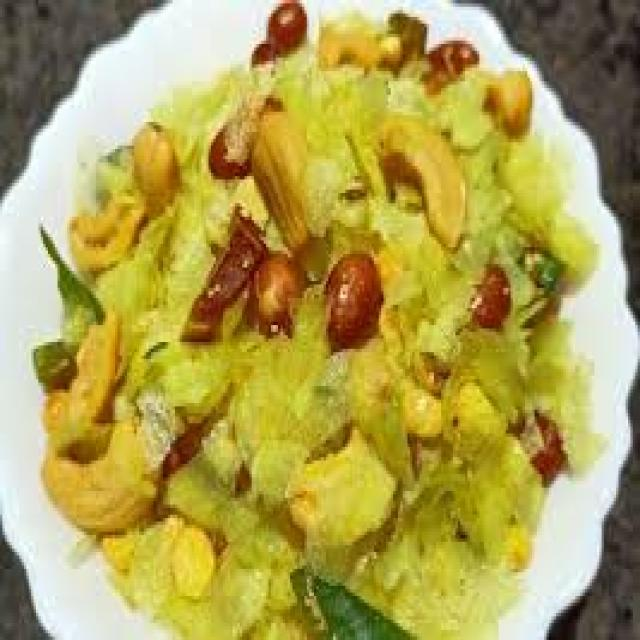POHA: (29, 4, 602, 637)
